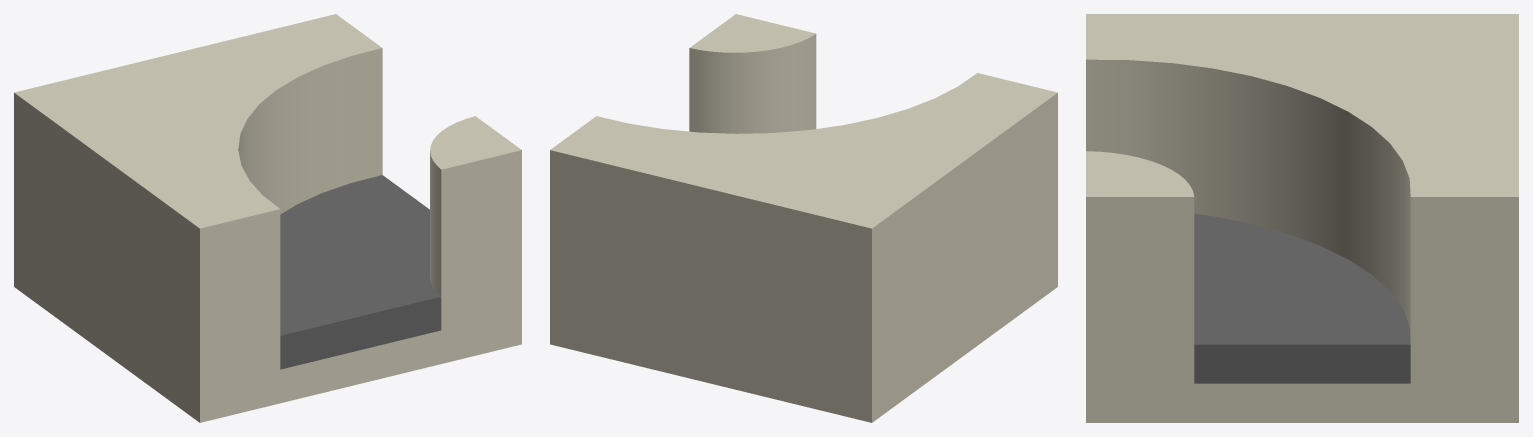
File: tile052.dae
The picture shows the model from 3 angles, left to right: view 1: azimuth 30°, elevation 25°; view 2: azimuth 150°, elevation 25°; view 3: azimuth 270°, elevation 25°; orthographic projection. The views are drawn at different scales.
Parts seen in each view (by area): view 1: tile052; view 2: tile052; view 3: tile052.
Part boxes in pixels (left/top/right/bottom): tile052: left=14, top=14, right=521, bottom=422; tile052: left=550, top=14, right=1057, bottom=422; tile052: left=1086, top=14, right=1518, bottom=422.
Bounding box in the file's own units: 1 × 0.5767 × 1.
